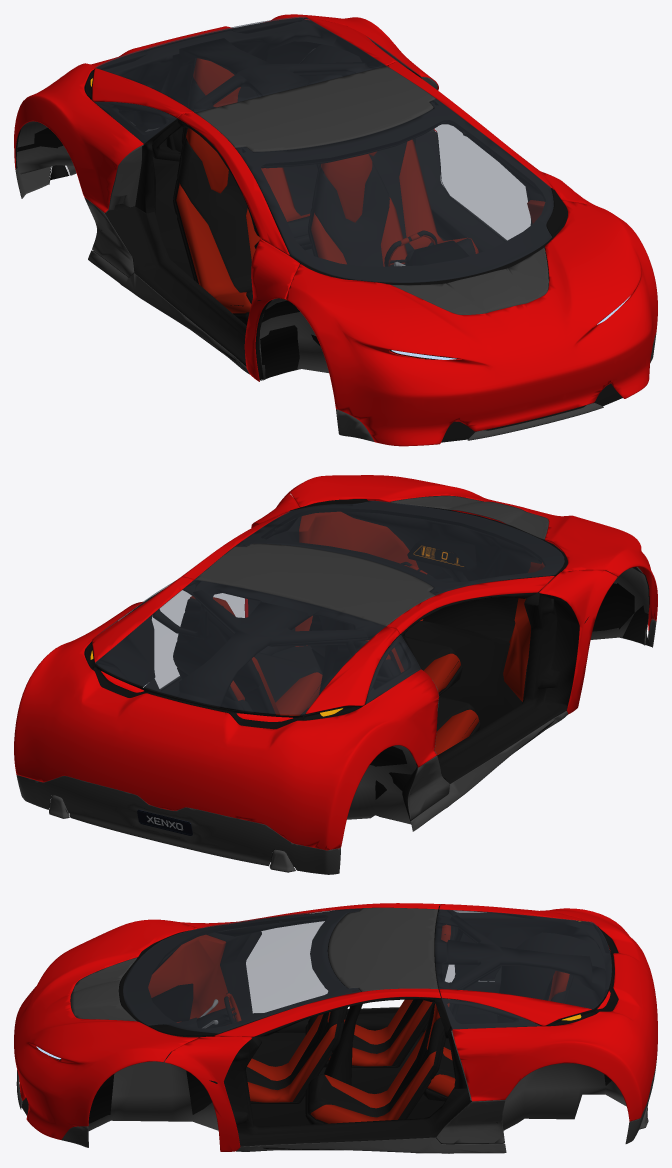
3 renders of one model, top to bottom at view 1: azimuth 30°, elevation 25°; view 2: azimuth 150°, elevation 25°; view 3: azimuth 270°, elevation 25°, orthographic. The views are drawn at different scales.
Visible parts, largest first — view 1: BodyRearPanelsColor1, BodyWindshield, BodyWindshieldGasket, BodyRoofPanel, InteriorDashSides, InteriorSeatsColor2, InteriorMid, InteriorDashMid, BodyUnderside, InteriorSteeringDash; view 2: BodyRearPanelsColor1, BodyWindshield, BodyWindshieldGasket, BodyRoofPanel, InteriorDashMid, InteriorMid, InteriorDashSides, BodyUnderside, InteriorSeatsColor2, InteriorSteeringDash, License Plate; view 3: BodyRearPanelsColor1, BodyWindshield, BodyWindshieldGasket, BodyRoofPanel, InteriorDashSides, InteriorMid, BodyUnderside, InteriorDashMid, InteriorSeatsColor2, InteriorSteeringDash.
Part boxes in pixels (bbox=[...]): BodyRearPanelsColor1: bbox=[14, 14, 657, 446]; BodyWindshield: bbox=[95, 16, 553, 282]; BodyWindshieldGasket: bbox=[16, 17, 622, 442]; BodyRoofPanel: bbox=[15, 66, 656, 441]; InteriorDashSides: bbox=[176, 58, 545, 358]; InteriorSeatsColor2: bbox=[180, 78, 475, 303]; InteriorMid: bbox=[93, 131, 557, 379]; InteriorDashMid: bbox=[15, 20, 520, 359]; BodyUnderside: bbox=[16, 48, 438, 380]; InteriorSteeringDash: bbox=[407, 240, 468, 265]; BodyRearPanelsColor1: bbox=[14, 475, 657, 850]; BodyWindshield: bbox=[95, 500, 564, 714]; BodyWindshieldGasket: bbox=[65, 499, 651, 813]; BodyRoofPanel: bbox=[16, 495, 656, 874]; InteriorDashMid: bbox=[49, 507, 544, 866]; InteriorMid: bbox=[142, 514, 588, 822]; InteriorDashSides: bbox=[189, 498, 544, 755]; BodyUnderside: bbox=[49, 567, 648, 872]; InteriorSeatsColor2: bbox=[238, 636, 475, 731]; InteriorSteeringDash: bbox=[407, 538, 476, 572]; License Plate: bbox=[137, 809, 192, 835]; BodyRearPanelsColor1: bbox=[14, 903, 657, 1151]; BodyWindshield: bbox=[123, 908, 611, 1033]; BodyWindshieldGasket: bbox=[19, 906, 647, 1150]; BodyRoofPanel: bbox=[16, 907, 657, 1153]; InteriorDashSides: bbox=[148, 924, 569, 1123]; InteriorMid: bbox=[201, 927, 503, 1150]; BodyUnderside: bbox=[88, 1015, 648, 1130]; InteriorDashMid: bbox=[119, 910, 618, 1088]; InteriorSeatsColor2: bbox=[246, 964, 564, 1117]; InteriorSteeringDash: bbox=[151, 983, 193, 1021].
Bounding box in the file's own units: 2.24 × 1.06 × 4.36.
15 materials, 2 textured.
